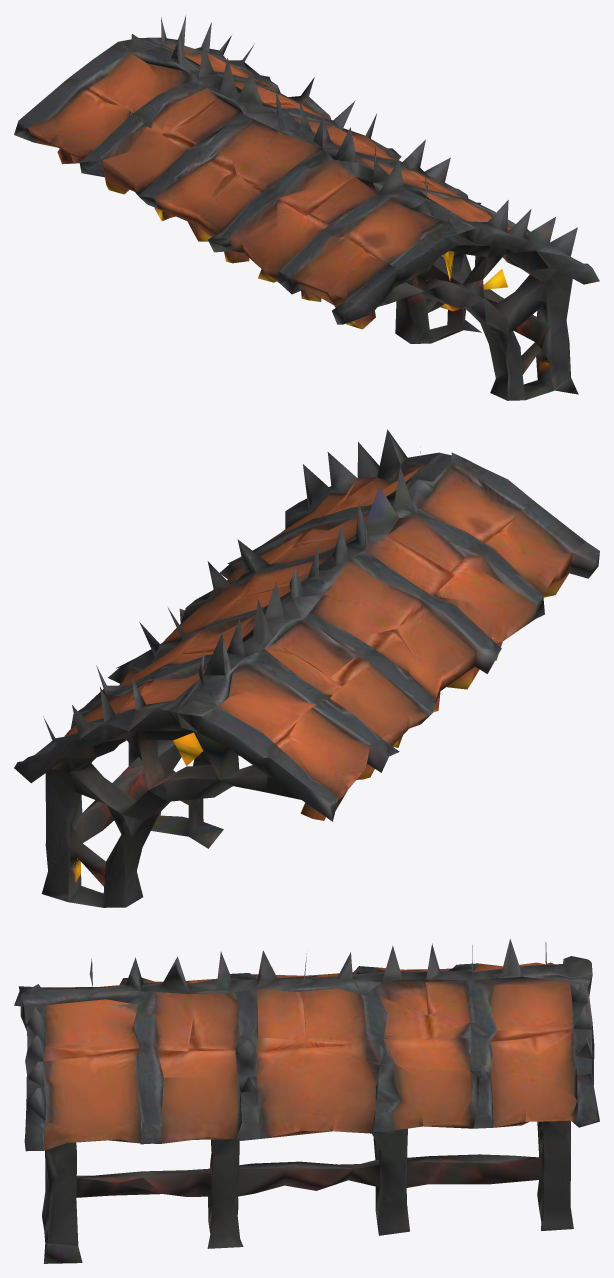
File: volcan_techo.glb
3 views of the same model, one above another, from view 1: azimuth 30°, elevation 25°; view 2: azimuth 150°, elevation 25°; view 3: azimuth 270°, elevation 25° (orthographic). The views are drawn at different scales.
Parts seen in each view (by area): view 1: tripo_node_53af882b-24e0-4066-b7f3-52051c0fec0f; view 2: tripo_node_53af882b-24e0-4066-b7f3-52051c0fec0f; view 3: tripo_node_53af882b-24e0-4066-b7f3-52051c0fec0f.
Part boxes in pixels (left/top/right/bottom): tripo_node_53af882b-24e0-4066-b7f3-52051c0fec0f: left=14, top=14, right=599, bottom=400; tripo_node_53af882b-24e0-4066-b7f3-52051c0fec0f: left=14, top=429, right=599, bottom=907; tripo_node_53af882b-24e0-4066-b7f3-52051c0fec0f: left=14, top=939, right=599, bottom=1263.
Size of the model in its own units: 0.6171 by 0.4525 by 0.9894.
Materials: 1 (1 with a texture image).
